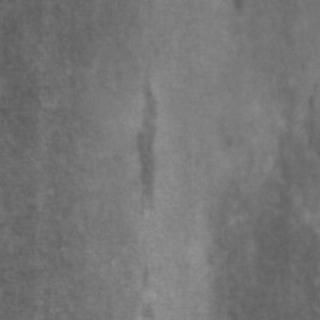inclusion: (207, 123, 315, 315), (124, 72, 160, 216)
